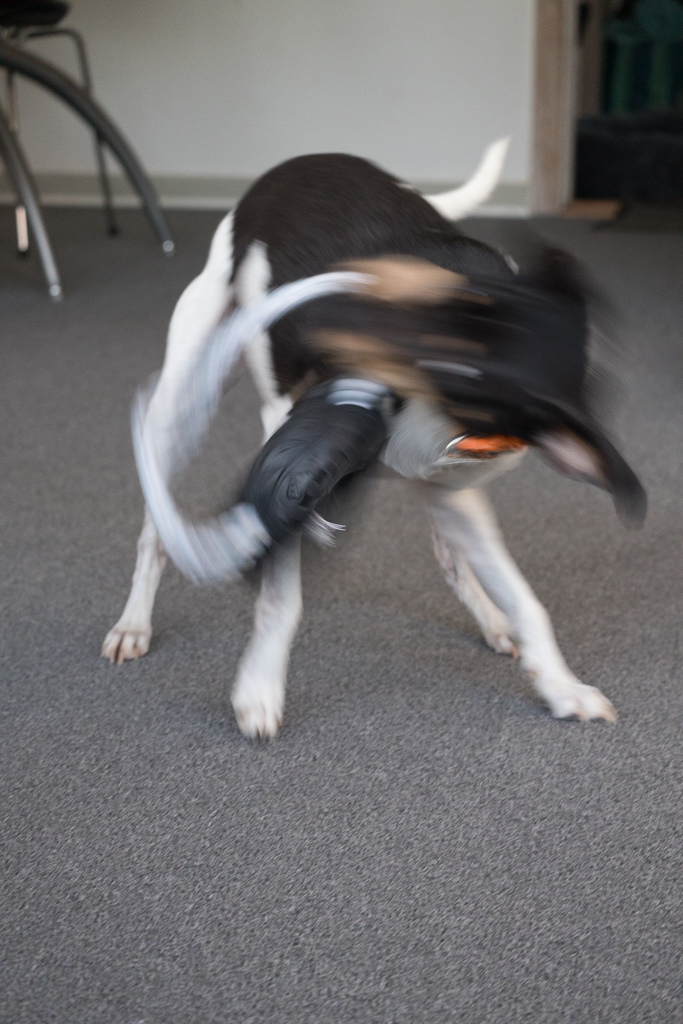Dog: (89, 123, 662, 749)
